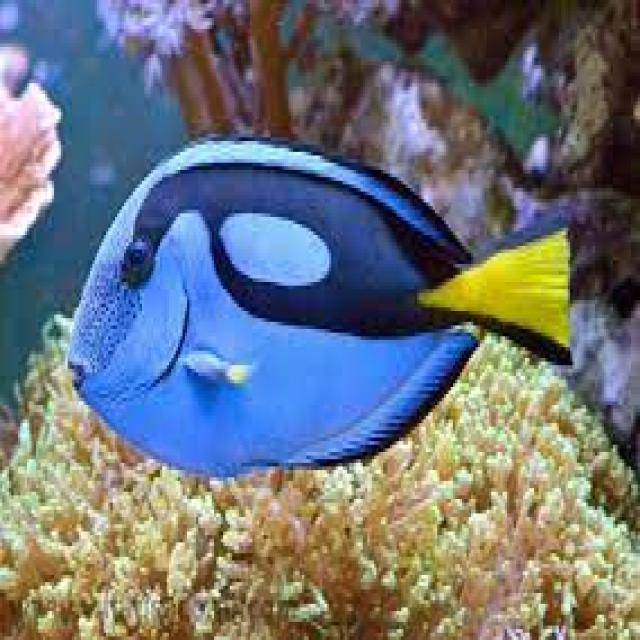BlueTang: (59, 141, 578, 472)
